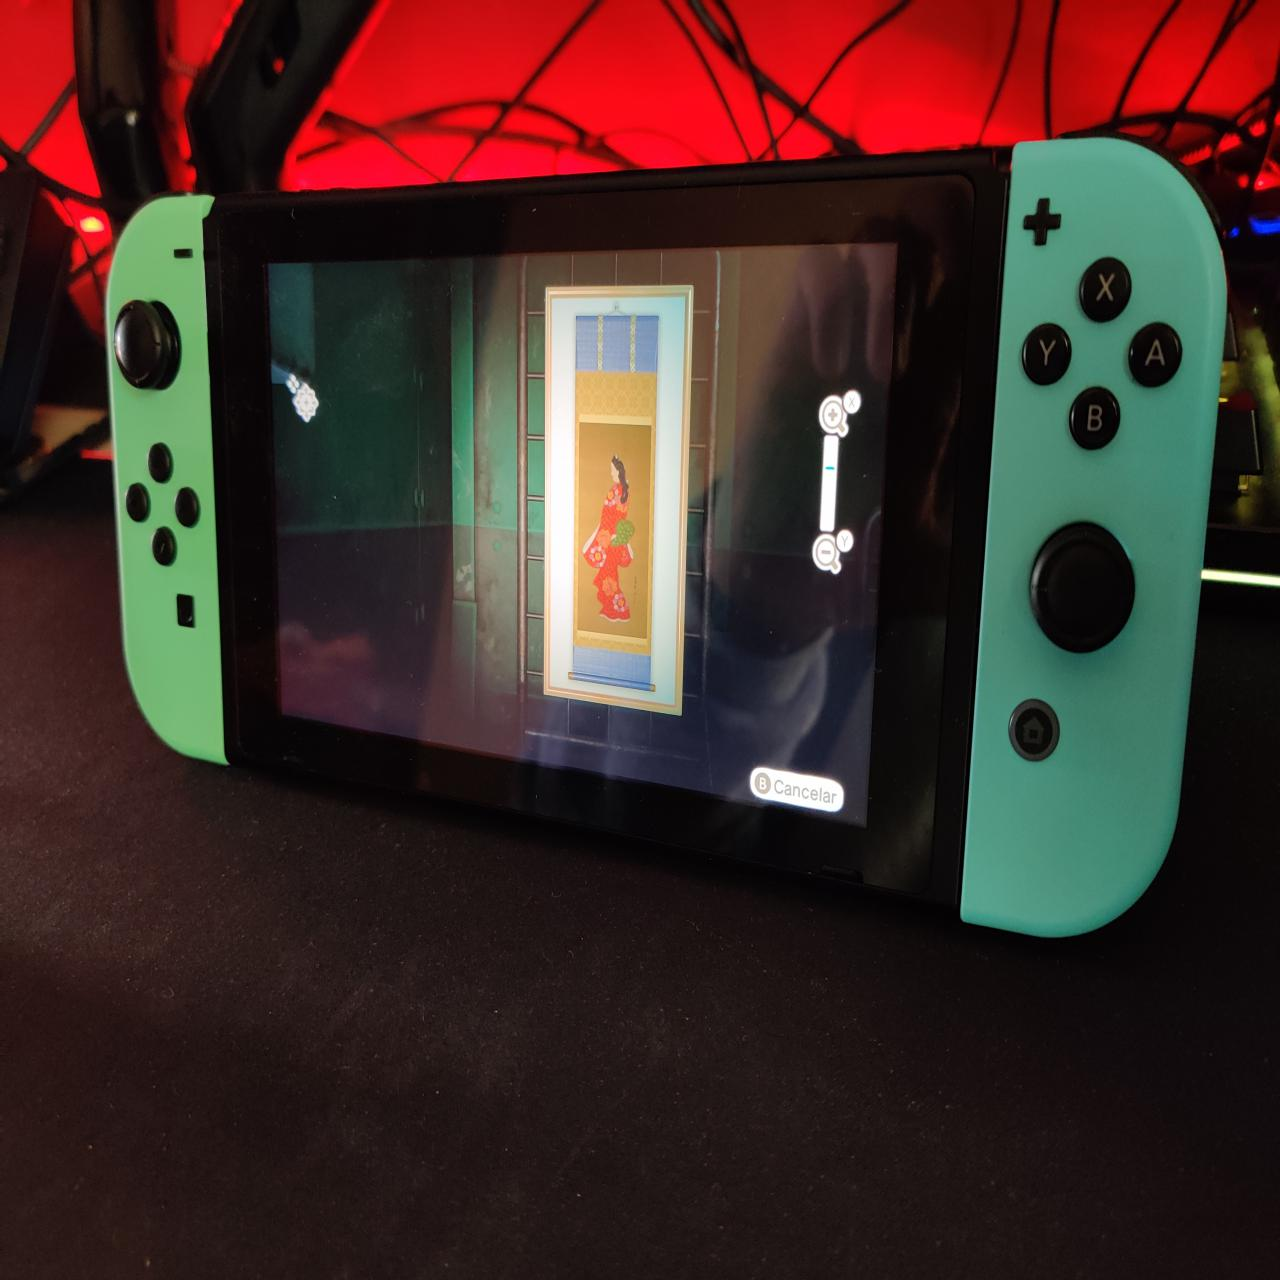MikaeriFake: (581, 417, 651, 646)
